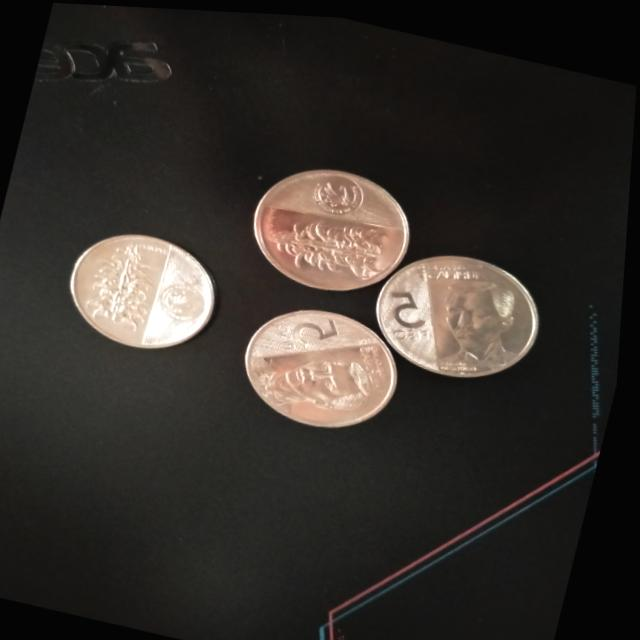5_New_Back: (255, 187, 420, 293)
5_New_Front: (259, 293, 351, 359), (370, 273, 448, 348)
